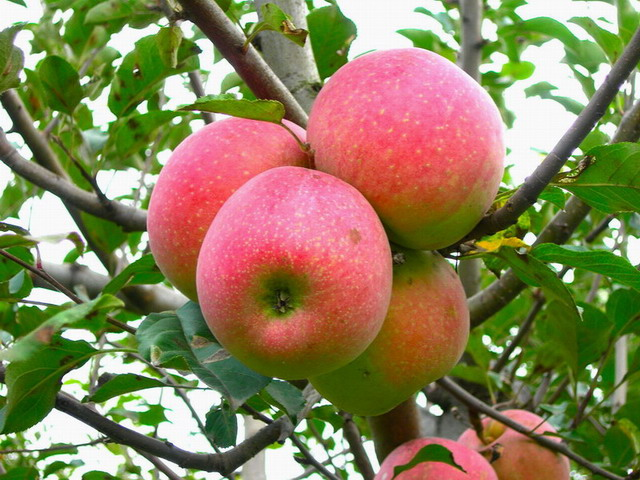apple: (200, 168, 391, 377), (310, 48, 500, 247)
obscured(2)_apple: (459, 399, 571, 480)
obscured(3)_apple: (145, 114, 307, 282), (323, 242, 469, 416)
